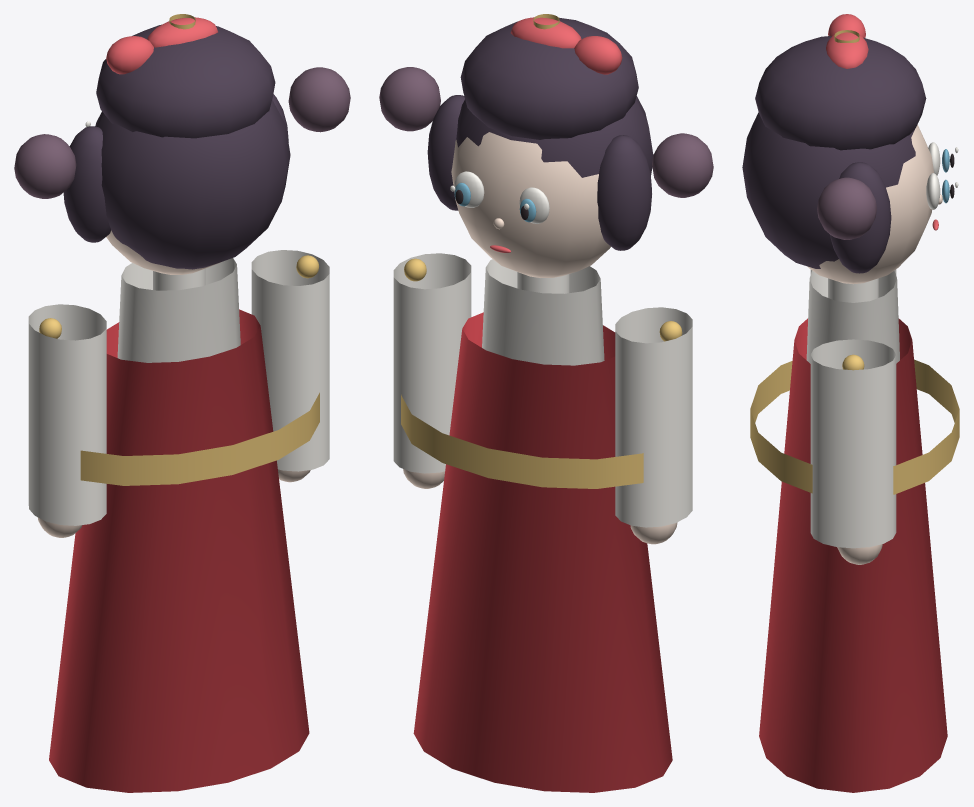
Rendered from hinata.gltf.
The picture shows the model from 3 angles, left to right: view 1: azimuth 30°, elevation 25°; view 2: azimuth 150°, elevation 25°; view 3: azimuth 270°, elevation 25°; orthographic projection. The views are drawn at different scales.
Size of the model in its own units: 1.15 by 2.44 by 0.685.
